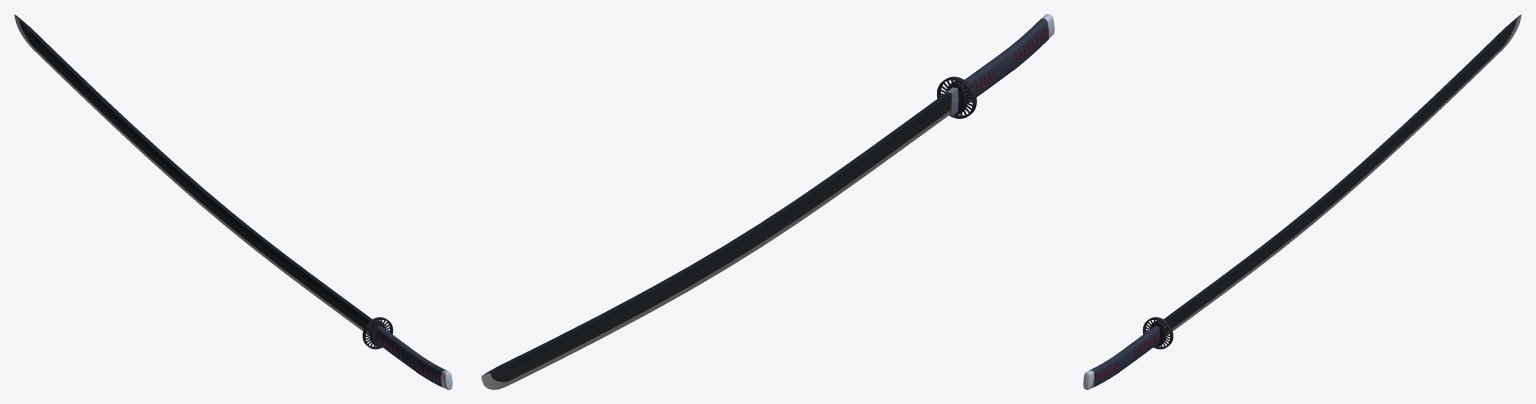
Rendered from katana_test.glb.
3 renders of one model, left to right at view 1: azimuth 30°, elevation 25°; view 2: azimuth 150°, elevation 25°; view 3: azimuth 330°, elevation 25°, orthographic. The views are drawn at different scales.
Parts seen in each view (by area): view 1: Blade, HiltDecoration, Guard, Hilt; view 2: Blade, HiltDecoration, Guard, HiltDecoration2; view 3: Blade, HiltDecoration, Guard, Hilt.
Boxes of the visible parts, bbox=[...] form: Blade: bbox=[14, 14, 372, 334]; HiltDecoration: bbox=[376, 325, 446, 387]; Guard: bbox=[362, 317, 393, 349]; Hilt: bbox=[376, 331, 452, 389]; Blade: bbox=[481, 87, 958, 389]; HiltDecoration: bbox=[964, 18, 1048, 102]; Guard: bbox=[937, 76, 976, 118]; HiltDecoration2: bbox=[991, 48, 1015, 82]; Blade: bbox=[1163, 14, 1521, 334]; HiltDecoration: bbox=[1089, 325, 1159, 387]; Guard: bbox=[1142, 317, 1173, 349]; Hilt: bbox=[1083, 331, 1159, 389].
Size of the model in its own units: 0.1164 by 0.264 by 3.05.
